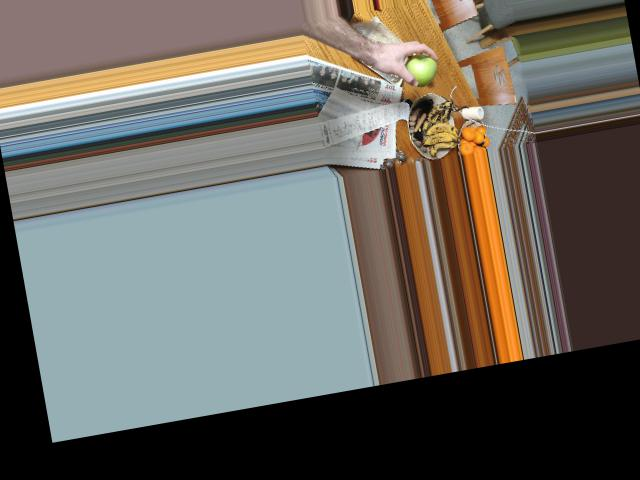apple: (402, 51, 441, 87)
